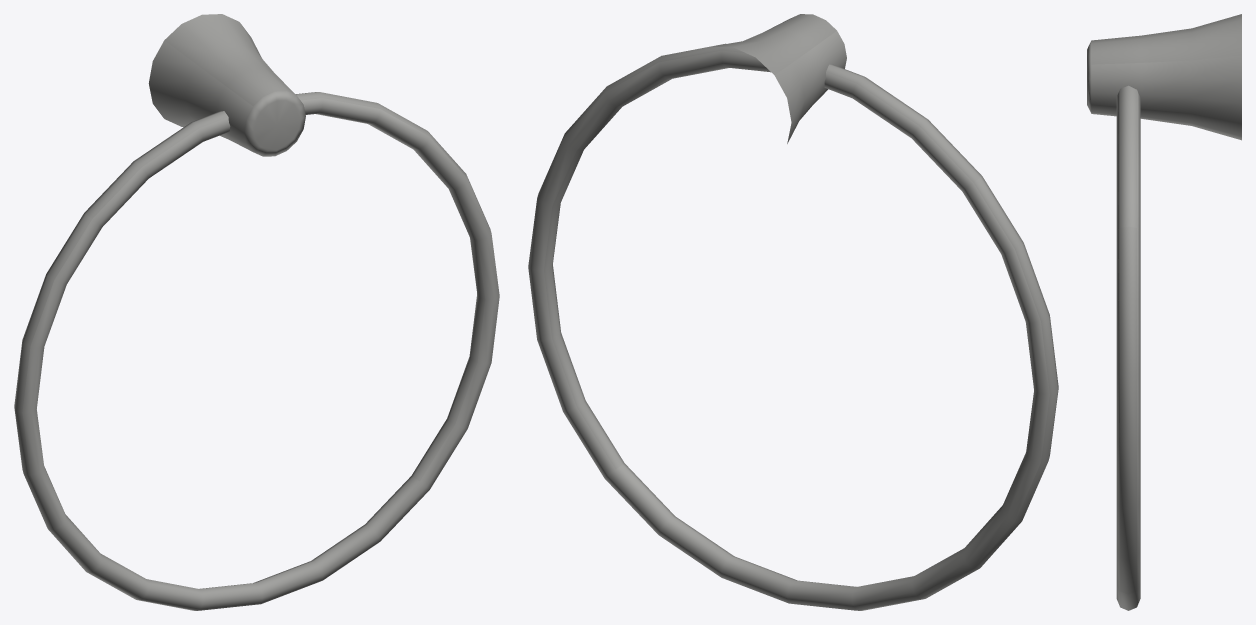
File: towel_ring.glb
3 renders of one model, left to right at view 1: azimuth 30°, elevation 25°; view 2: azimuth 150°, elevation 25°; view 3: azimuth 270°, elevation 25°, orthographic. The views are drawn at different scales.
Visible parts, largest first — view 1: towel_ring; view 2: towel_ring; view 3: towel_ring.
Boxes of the visible parts, left/top/right/bottom form: towel_ring: left=14, top=14, right=499, bottom=610; towel_ring: left=528, top=14, right=1058, bottom=610; towel_ring: left=1087, top=14, right=1241, bottom=610.
Size of the model in its own units: 0.167 by 0.1814 by 0.045.
Materials: 1 (1 with a texture image).
